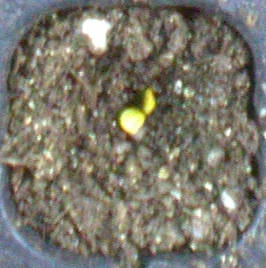pepper seed: (45, 41, 190, 175), (64, 28, 222, 144)
